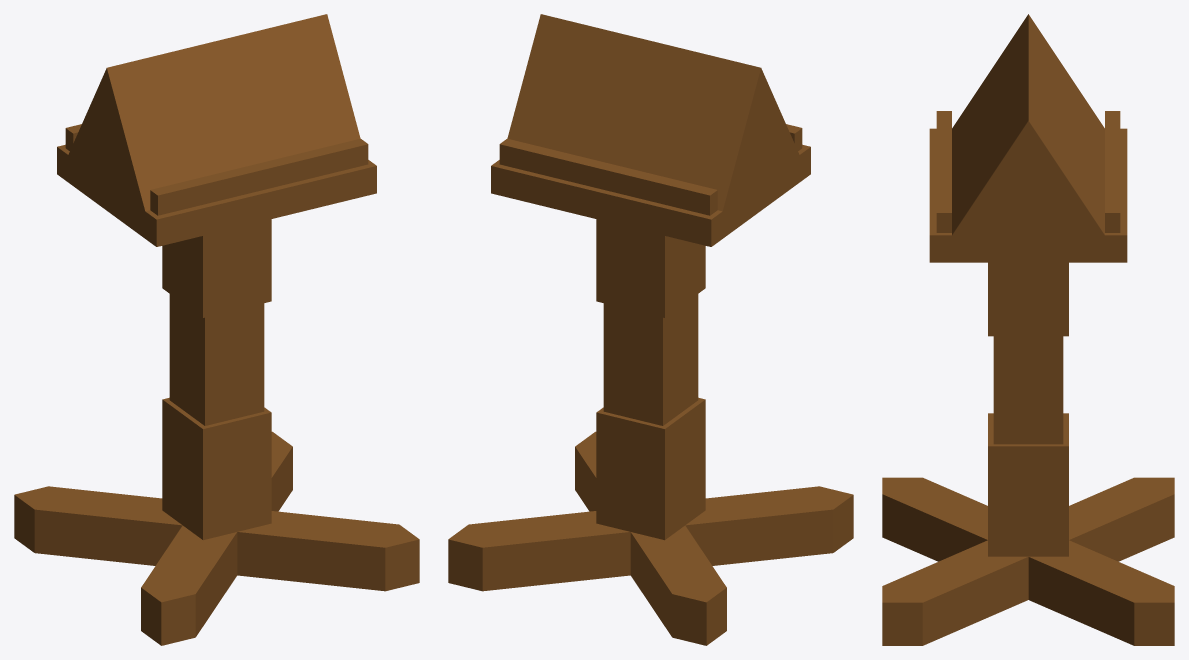
File: decor_book_stand.fbx
3 renders of one model, left to right at view 1: azimuth 30°, elevation 25°; view 2: azimuth 150°, elevation 25°; view 3: azimuth 270°, elevation 25°, orthographic.
Visible parts, largest first — view 1: decor_book_stand; view 2: decor_book_stand; view 3: decor_book_stand.
Boxes of the visible parts, <box> form: decor_book_stand: <box>14,14,419,645</box>; decor_book_stand: <box>448,14,853,645</box>; decor_book_stand: <box>882,14,1174,645</box>.
Bounding box in the file's own units: 69.9 × 134 × 69.
